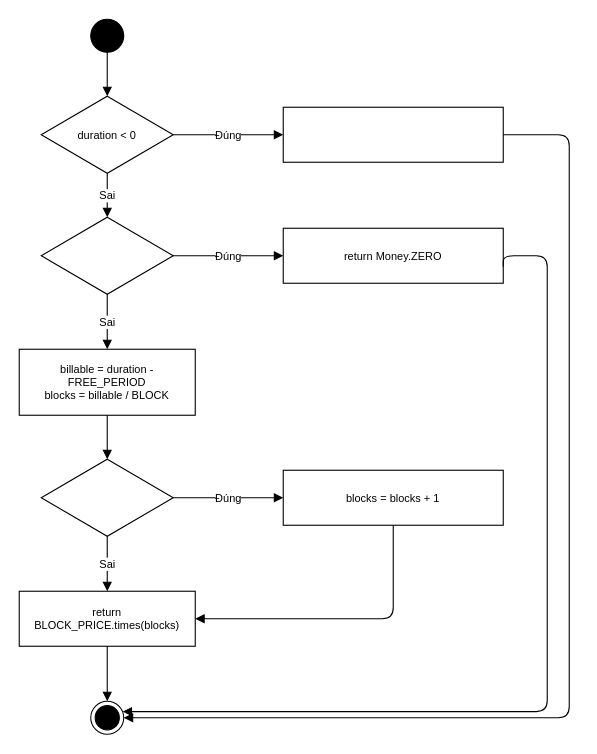
This 597x754 diagram has some shape labels left out. Each missing label, with the box of its shape:
billable % BLOCK > 0: (40, 458, 173, 536)
duration <= FREE_PERIOD: (40, 216, 173, 294)
throw IllegalArgumentException: (282, 106, 503, 162)
